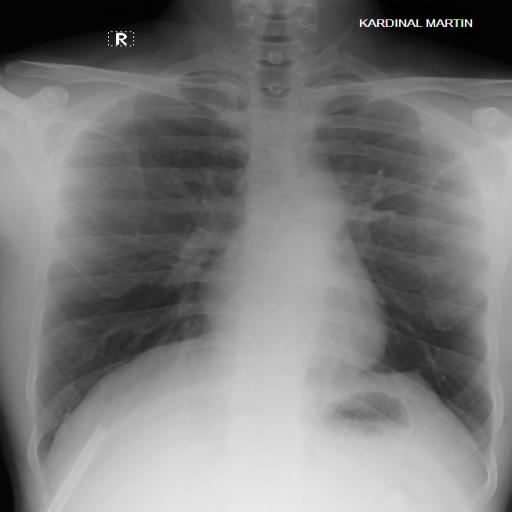normal: (26, 35, 502, 480)
